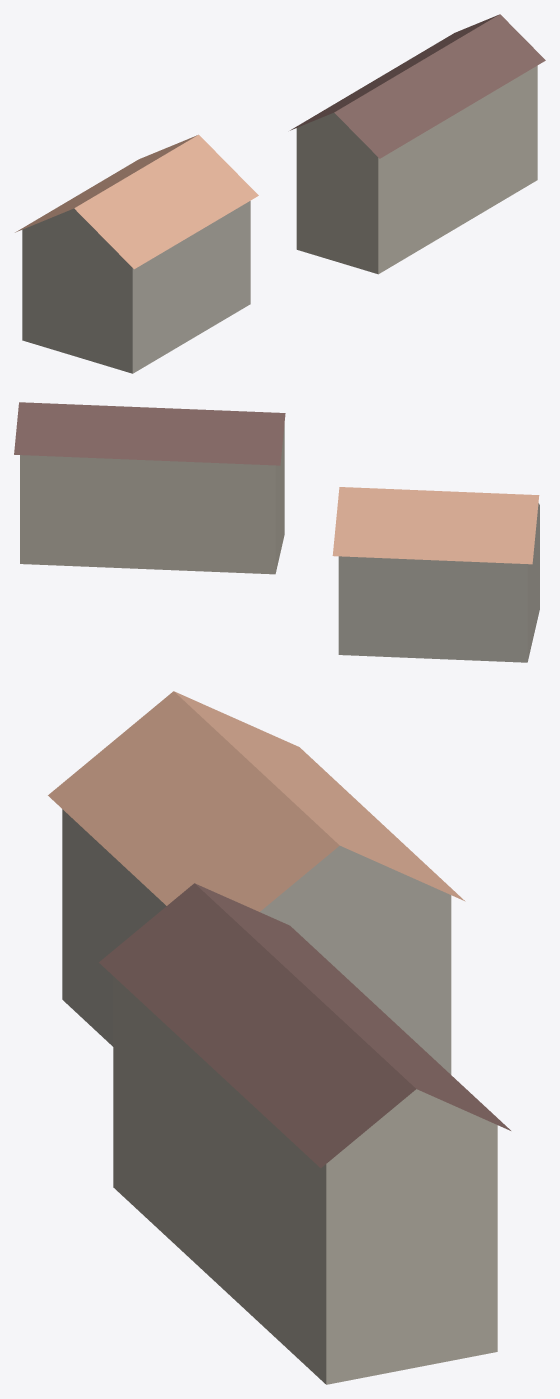
3 renders of one model, top to bottom at view 1: azimuth 30°, elevation 25°; view 2: azimuth 150°, elevation 25°; view 3: azimuth 270°, elevation 25°, orthographic. The views are drawn at different scales.
Parts seen in each view (by area): view 1: tuile; view 2: tuile; view 3: tuile.
Part boxes in pixels (box(x1,y1,x2,y2)): tuile: box(15, 14, 545, 373); tuile: box(14, 402, 539, 662); tuile: box(48, 691, 510, 1384).
Size of the model in its own units: 36.98 by 11.68 by 14.78.
